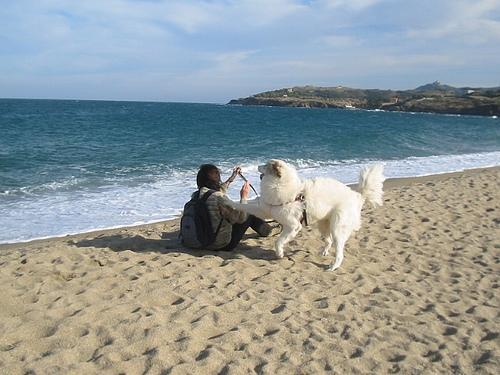Great_Pyrenees: (226, 161, 385, 270)
